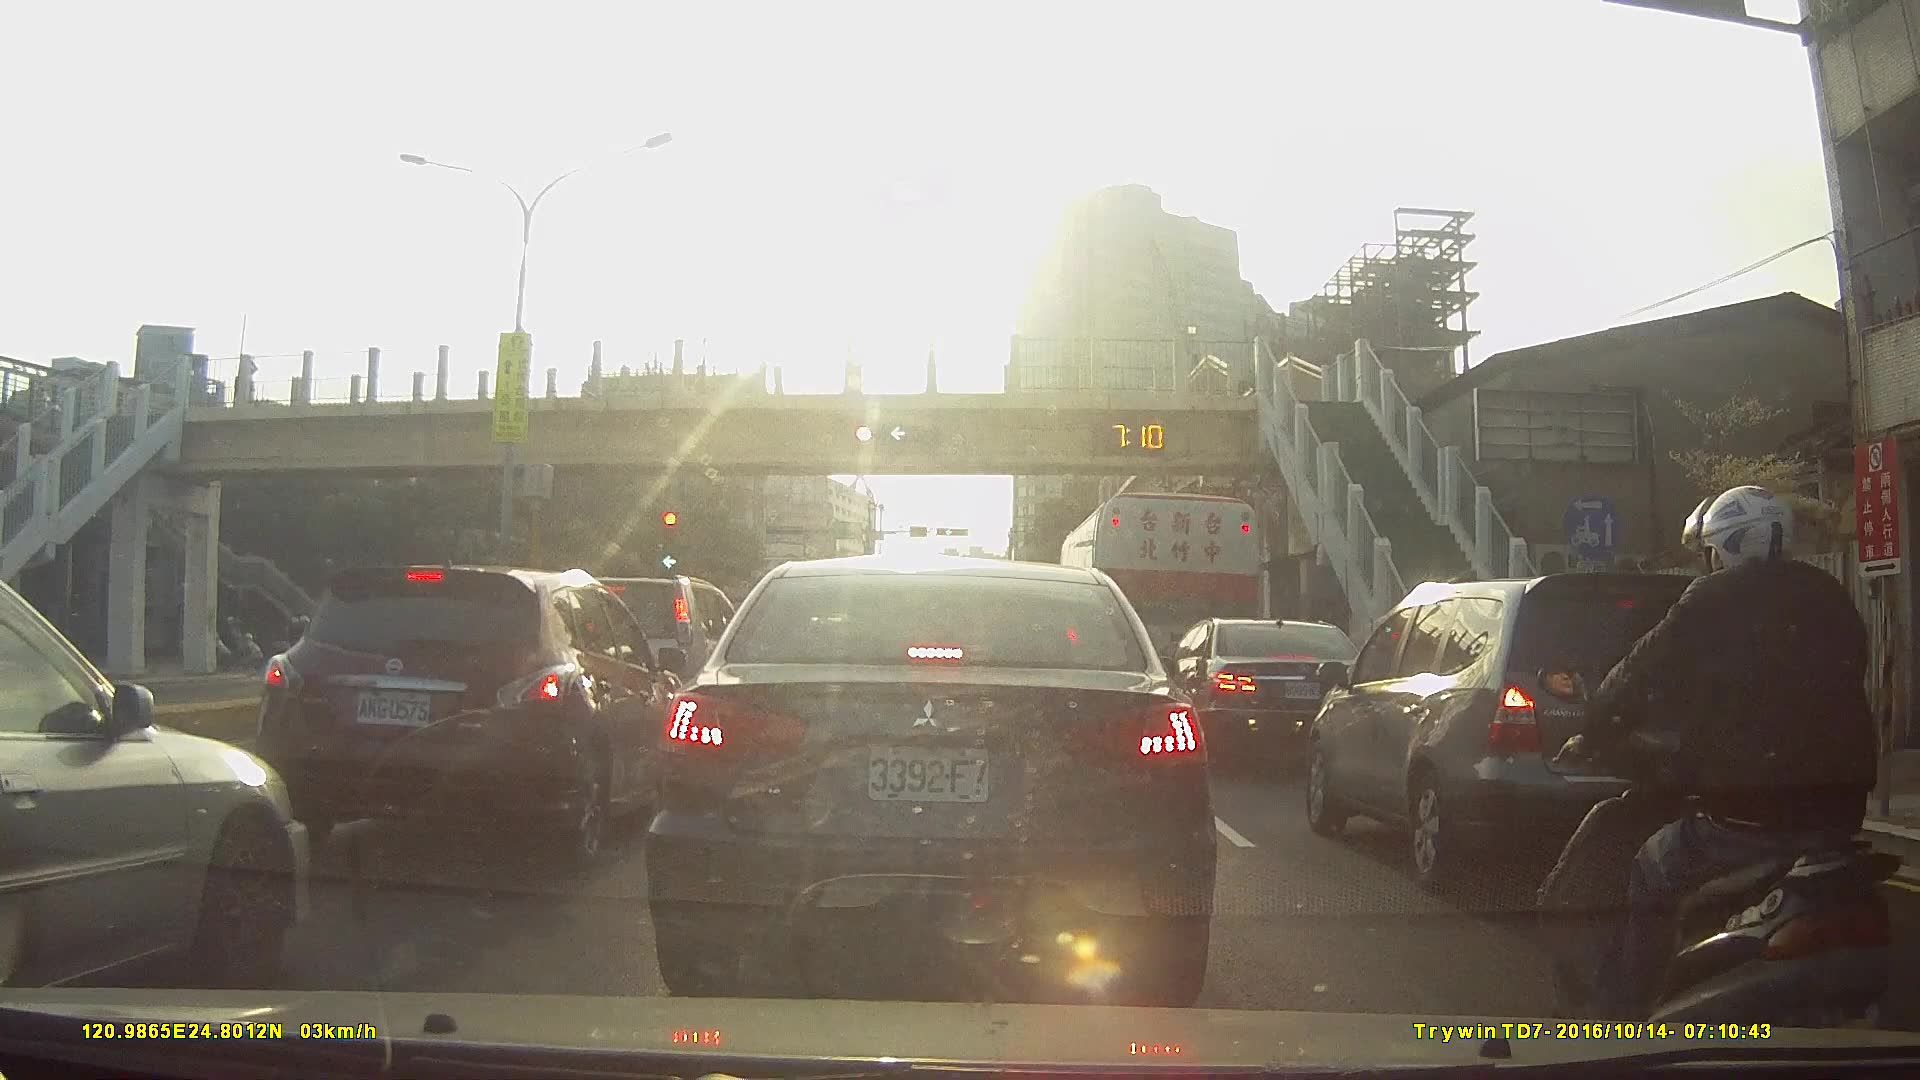pedestrian: (1240, 351, 1267, 408), (234, 358, 261, 412)
rider: (1552, 490, 1901, 1080), (209, 616, 267, 669)
vehicle: (643, 552, 1218, 1004), (1304, 569, 1775, 892), (248, 560, 693, 869), (0, 572, 314, 1004), (1055, 490, 1262, 724), (1154, 614, 1381, 768)
